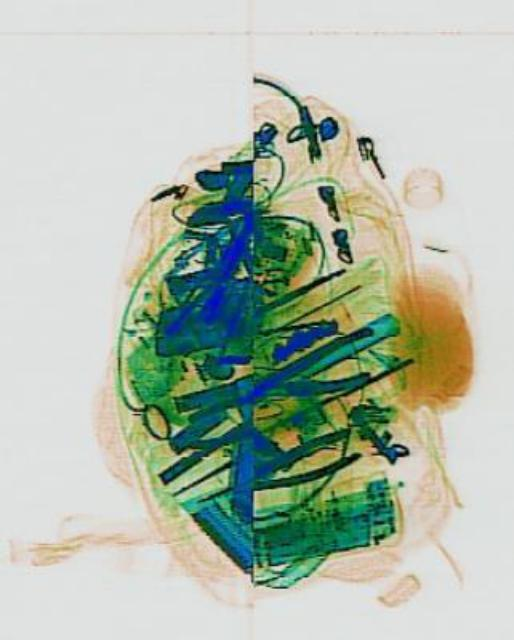Pliers: (183, 321, 383, 443), (188, 419, 362, 521)
